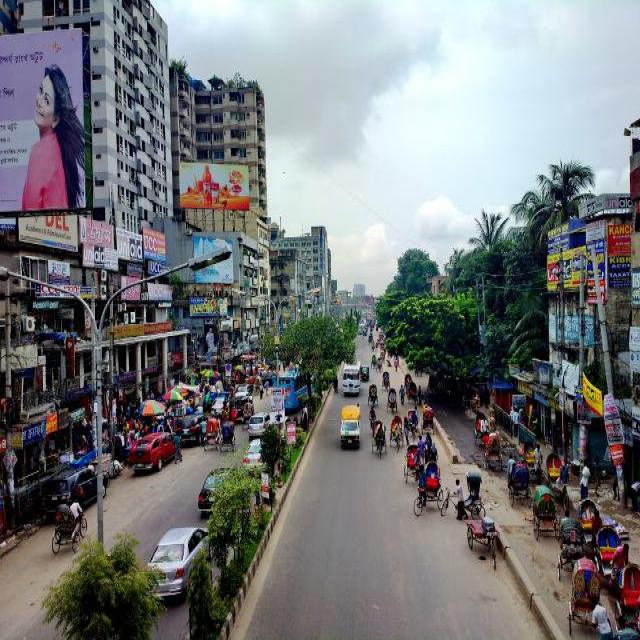vehicle: (144, 523, 214, 599), (566, 552, 602, 632), (39, 462, 109, 501), (444, 468, 487, 517), (51, 500, 89, 554), (464, 514, 500, 569), (126, 429, 174, 470), (612, 559, 640, 624), (414, 458, 445, 516), (197, 465, 233, 514), (532, 483, 560, 543), (280, 367, 312, 411), (596, 522, 631, 561), (507, 461, 533, 509), (558, 517, 583, 558), (341, 403, 362, 448), (483, 430, 504, 472), (176, 412, 202, 445), (341, 357, 361, 397), (370, 417, 388, 458), (242, 436, 262, 472), (578, 494, 601, 525), (545, 448, 565, 483), (388, 412, 404, 453), (219, 418, 237, 452), (246, 411, 270, 435), (403, 441, 417, 482), (203, 414, 219, 448), (520, 438, 543, 461), (406, 405, 421, 438), (421, 404, 437, 434), (386, 386, 399, 414), (406, 380, 419, 406), (474, 408, 489, 430), (366, 382, 379, 407), (209, 395, 224, 415), (381, 369, 391, 388), (361, 362, 370, 382), (241, 399, 254, 412), (232, 391, 253, 399), (255, 374, 263, 393), (376, 355, 383, 372), (370, 352, 377, 368), (247, 372, 255, 385), (403, 372, 413, 380), (370, 340, 376, 350), (379, 349, 386, 357), (363, 328, 368, 338), (379, 340, 385, 348), (268, 364, 273, 372), (273, 364, 277, 372)
